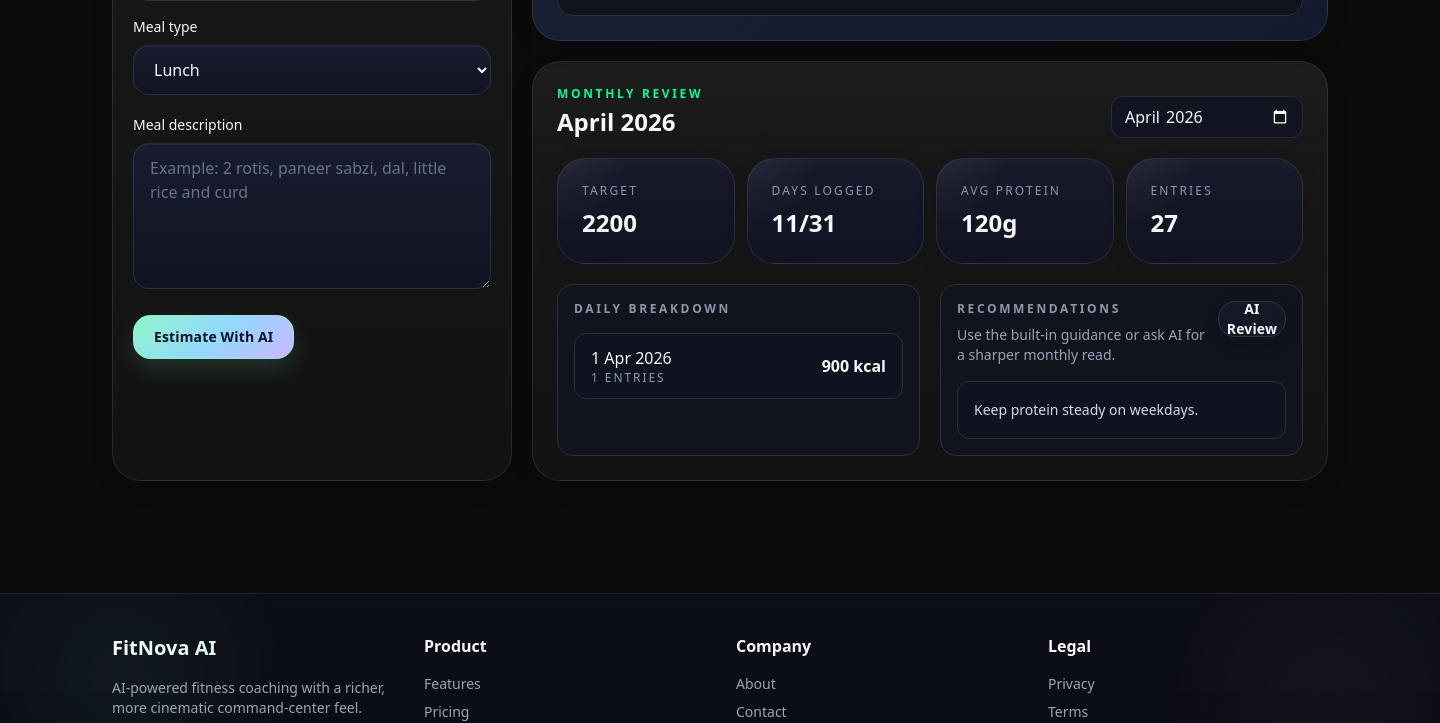
CaloriesPage › generates AI calorie insights
This screenshot has width=1440, height=723.
(page scrolled)
Expected: the text "Recommendations" is shown, left=957, top=300, right=1121, bottom=316
Click the button "AI Review": coordinates (1252, 318) left=1218, top=300, right=1286, bottom=336
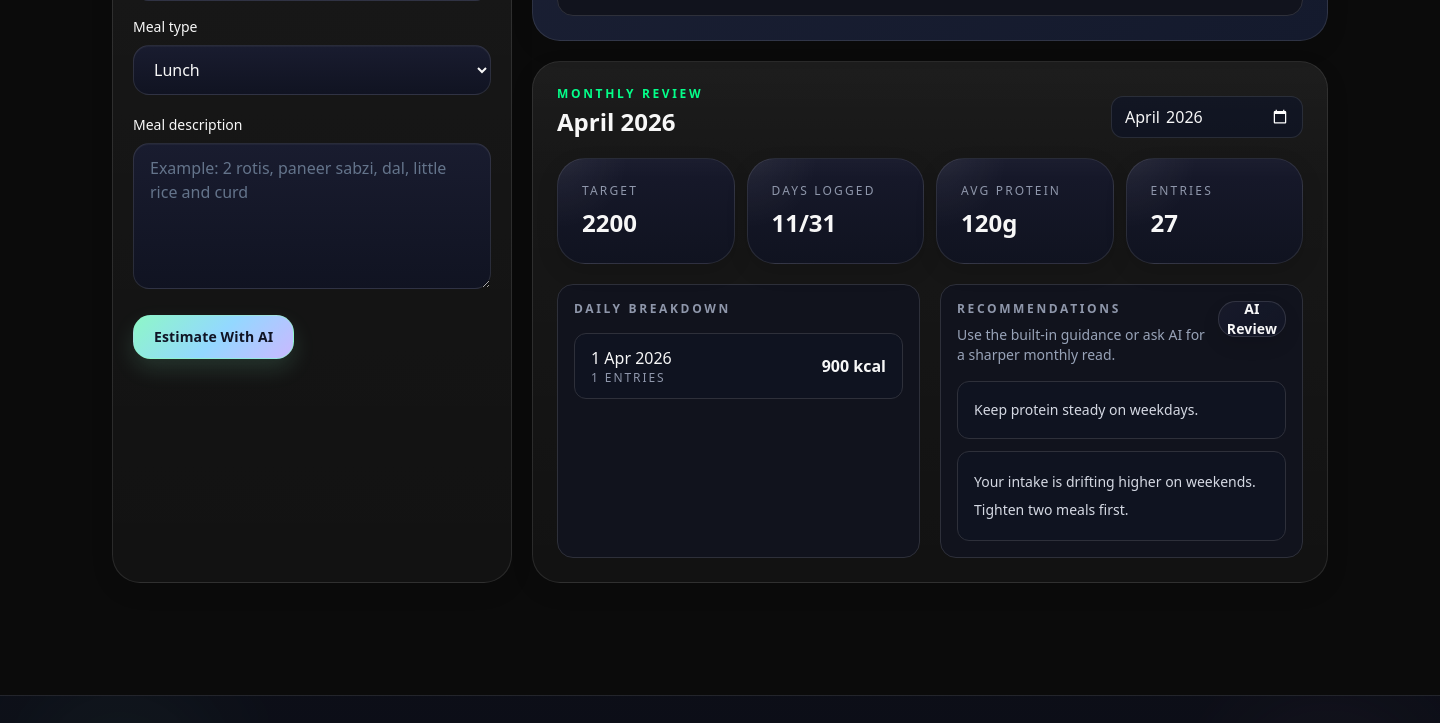
Now the text "Your intake is drifting higher on weekends. Tighten two meals first." is shown, box left=957, top=450, right=1286, bottom=540
